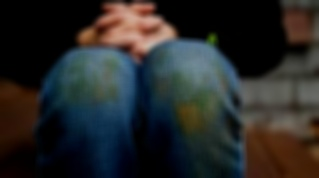earth: (70, 65, 118, 102), (155, 74, 218, 102), (175, 103, 206, 132)
